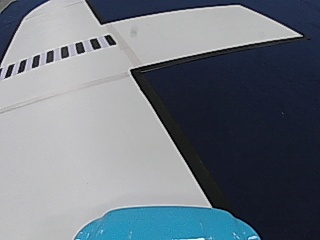CrossWalk: (4, 34, 114, 74)
